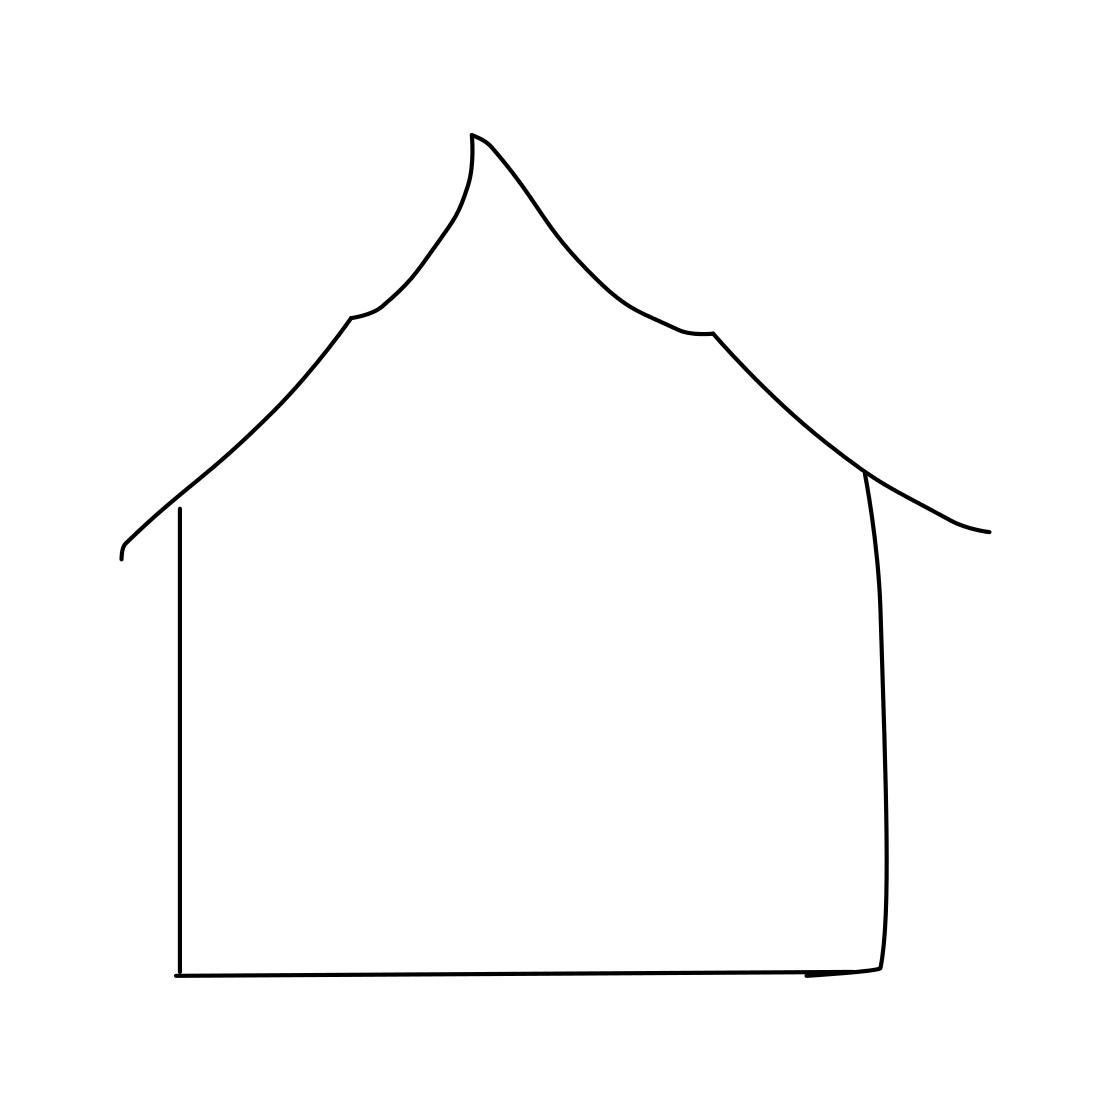House: (97, 100, 1015, 996)
